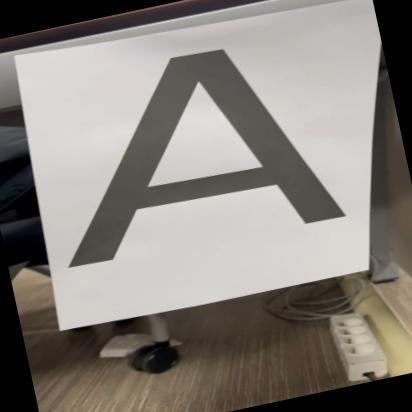seat: (28, 14, 347, 277)
